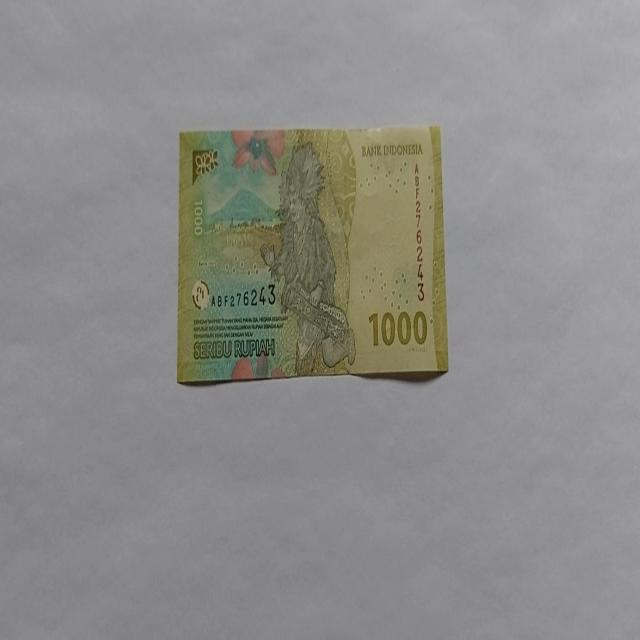seribu rupiah kertas: (176, 123, 448, 384)
